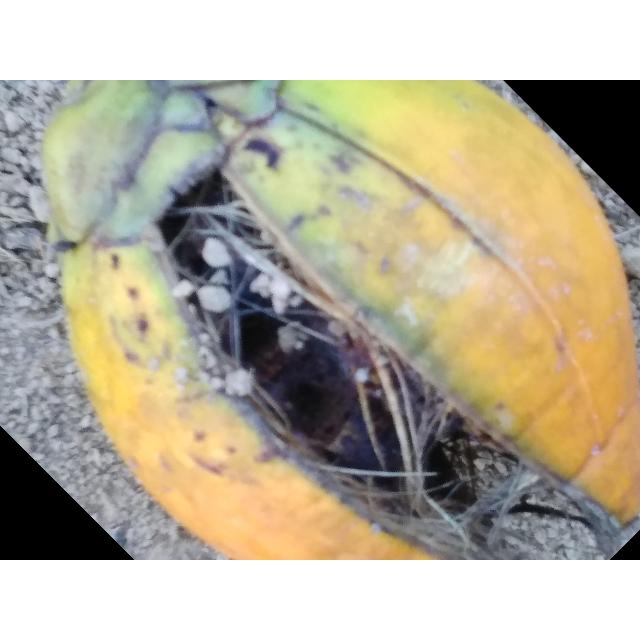damaged: (44, 80, 640, 560)
